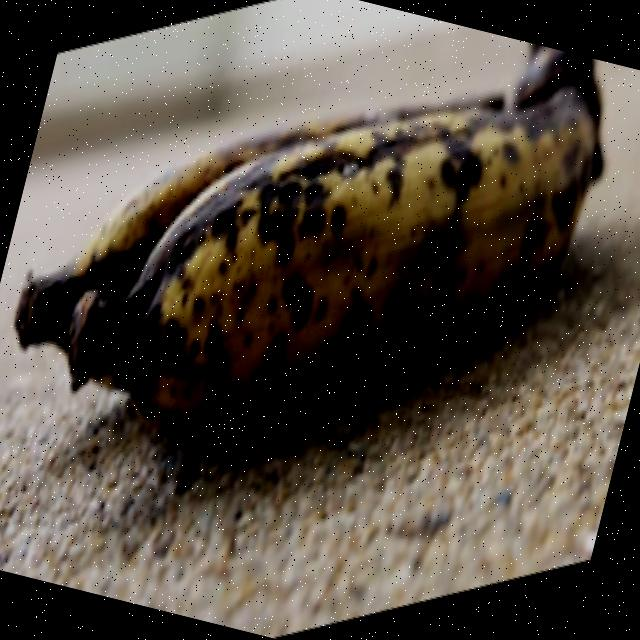Rotten: (0, 0, 637, 524)
